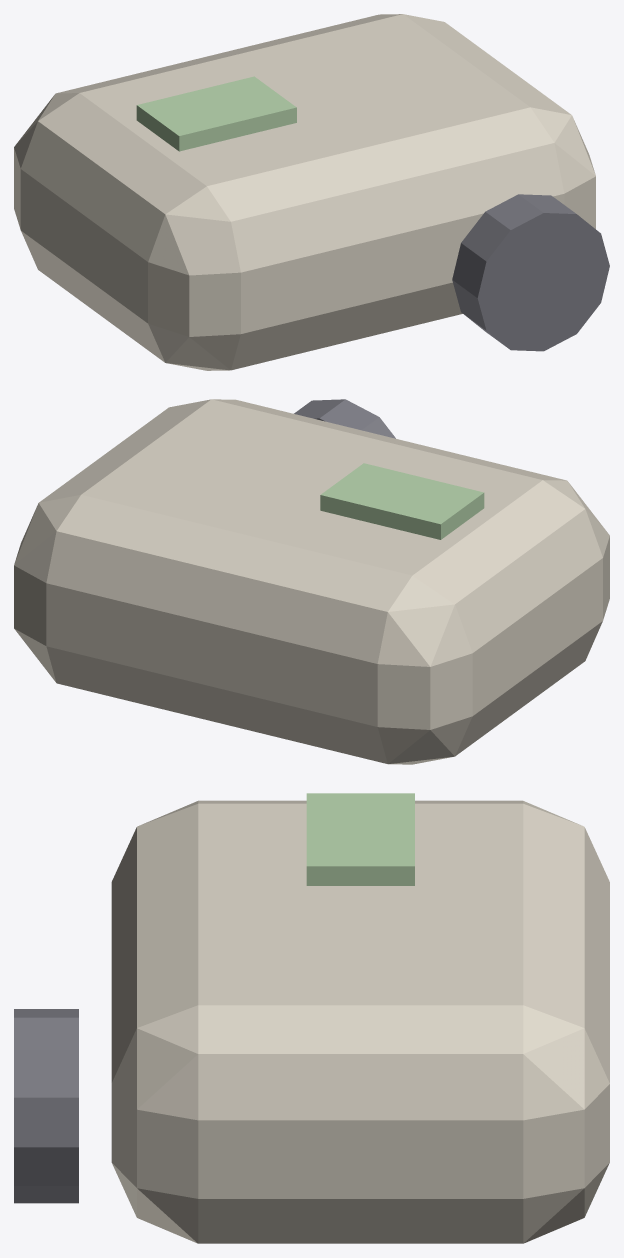
The model's file is cozy-home-interiors-projector-214e6e71.glb.
The picture shows the model from 3 angles, top to bottom: view 1: azimuth 30°, elevation 25°; view 2: azimuth 150°, elevation 25°; view 3: azimuth 270°, elevation 25°; orthographic projection. The views are drawn at different scales.
Parts seen in each view (by area): view 1: projector; view 2: projector; view 3: projector.
Part boxes in pixels (<box>): projector: <box>14,14,609,370</box>; projector: <box>14,399,609,764</box>; projector: <box>14,793,609,1243</box>.
Size of the model in its own units: 0.3 by 0.13 by 0.275.
